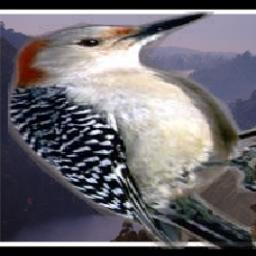Woodpecker: (7, 13, 256, 250)
